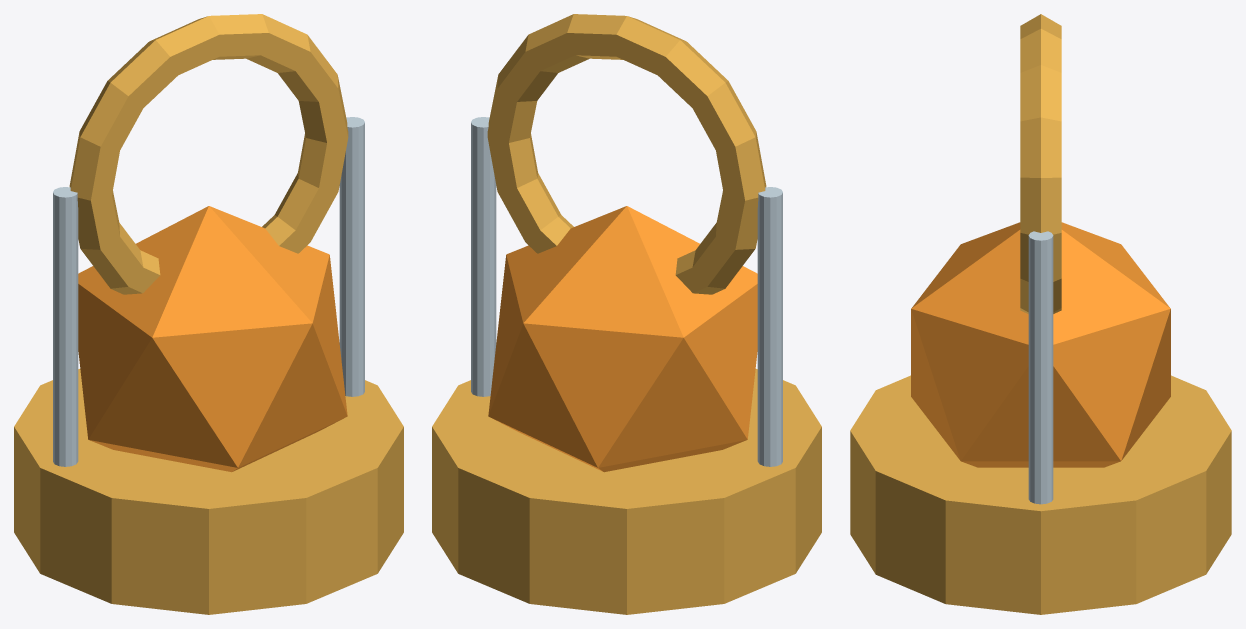
The model's file is phoenix-censer-1.glb.
The picture shows the model from 3 angles, left to right: view 1: azimuth 30°, elevation 25°; view 2: azimuth 150°, elevation 25°; view 3: azimuth 270°, elevation 25°; orthographic projection. The views are drawn at different scales.
Parts seen in each view (by area): view 1: Cylinder, Icosphere, Torus, Cylinder.001, Cylinder.002; view 2: Cylinder, Icosphere, Torus, Cylinder.001, Cylinder.002; view 3: Cylinder, Icosphere, Torus, Cylinder.002.
Part boxes in pixels (<box>): Cylinder: <box>14,369,403,614</box>; Icosphere: <box>78,206,347,472</box>; Torus: <box>69,14,348,294</box>; Cylinder.001: <box>53,187,78,466</box>; Cylinder.002: <box>339,117,364,396</box>; Cylinder: <box>432,369,821,614</box>; Icosphere: <box>488,206,757,472</box>; Torus: <box>487,14,766,294</box>; Cylinder.001: <box>757,187,782,466</box>; Cylinder.002: <box>471,117,496,396</box>; Cylinder: <box>850,375,1231,614</box>; Icosphere: <box>911,222,1170,467</box>; Torus: <box>1020,14,1061,313</box>; Cylinder.002: <box>1028,231,1053,504</box>.
Bounding box in the file's own units: 0.4 × 0.585 × 0.4.
